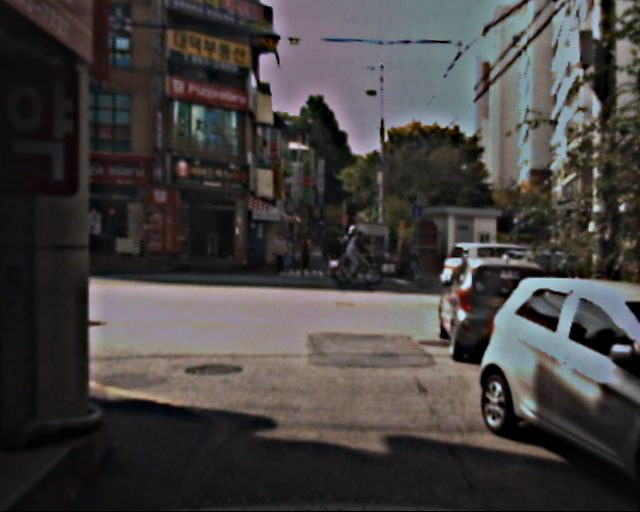person: (399, 234, 419, 282), (349, 230, 368, 276), (326, 230, 345, 276), (270, 230, 288, 275), (300, 236, 315, 273)
